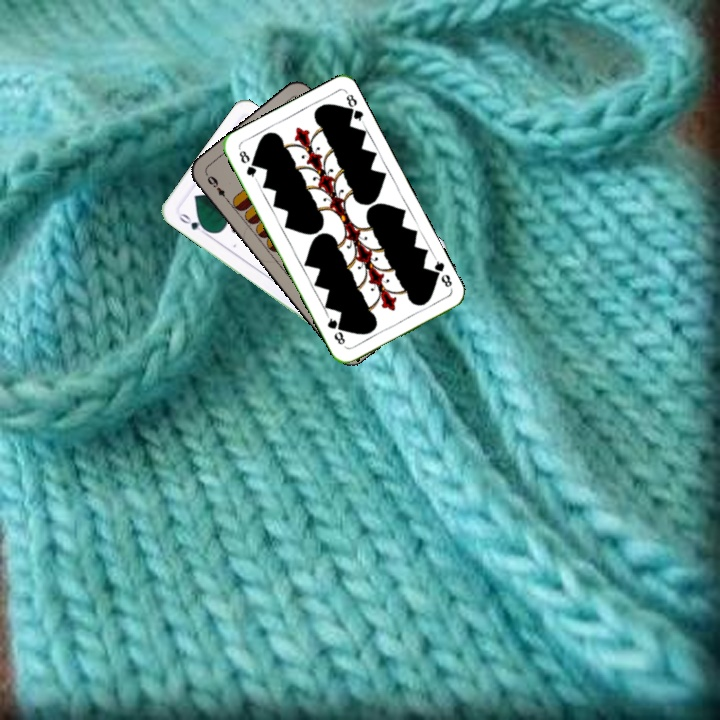E9: (203, 171, 232, 205)
G8: (427, 254, 455, 290), (235, 146, 260, 183)
GO: (175, 209, 211, 237)
